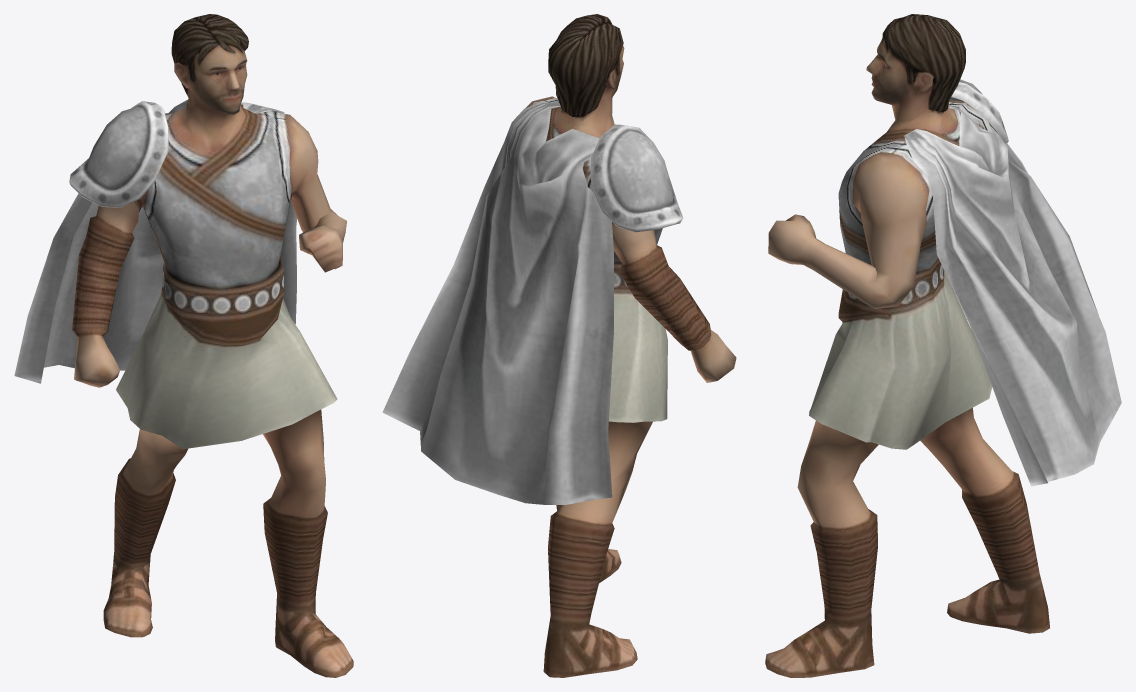
The model's file is body-mediuminfantry.glb.
3 views of the same model, side by side, from view 1: azimuth 30°, elevation 25°; view 2: azimuth 150°, elevation 25°; view 3: azimuth 270°, elevation 25° (orthographic). The views are drawn at different scales.
Bounding box in the file's own units: 0.9933 × 2.02 × 1.05.
Materials: 1 (1 with a texture image).
